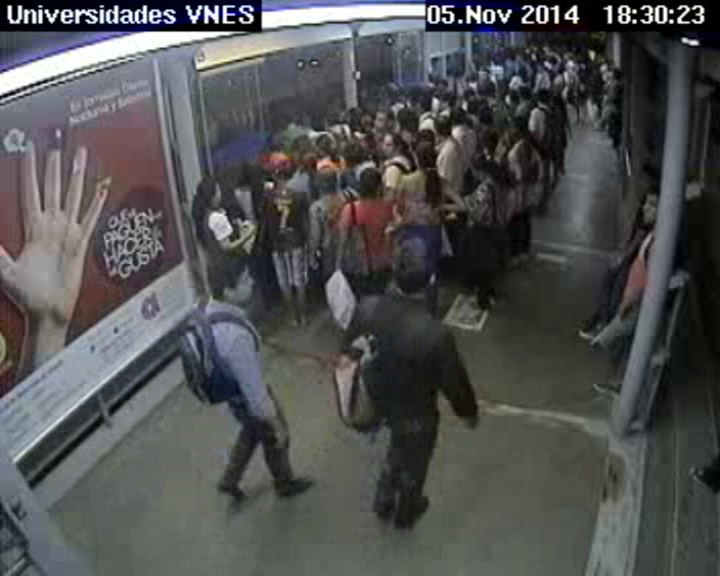person: (205, 250, 261, 309), (391, 235, 442, 293), (191, 173, 227, 210), (411, 139, 443, 172), (264, 154, 296, 187), (640, 188, 668, 225), (356, 169, 384, 199), (238, 161, 263, 188), (314, 163, 338, 190), (381, 133, 406, 158), (477, 129, 501, 154), (638, 160, 660, 186), (293, 136, 315, 162), (396, 106, 419, 130), (372, 109, 396, 131), (433, 115, 455, 136), (351, 107, 371, 128), (314, 136, 334, 156), (508, 115, 527, 136), (343, 144, 361, 164), (359, 136, 377, 155), (490, 109, 508, 127), (326, 110, 344, 127), (311, 115, 328, 133), (449, 106, 466, 123), (416, 95, 432, 112), (503, 90, 518, 107), (482, 83, 497, 99), (465, 71, 480, 86), (517, 86, 531, 100), (479, 106, 493, 120), (536, 87, 549, 100), (387, 91, 400, 104), (465, 87, 477, 101), (434, 79, 448, 90), (466, 102, 478, 114), (544, 56, 556, 67), (563, 52, 574, 63), (515, 64, 525, 75), (612, 69, 622, 79), (588, 49, 599, 58), (554, 64, 565, 73), (504, 48, 514, 57), (542, 44, 550, 53), (536, 63, 544, 72), (606, 57, 614, 66), (489, 54, 497, 62), (577, 56, 585, 63), (531, 44, 538, 51), (530, 54, 538, 59), (524, 47, 531, 52)
